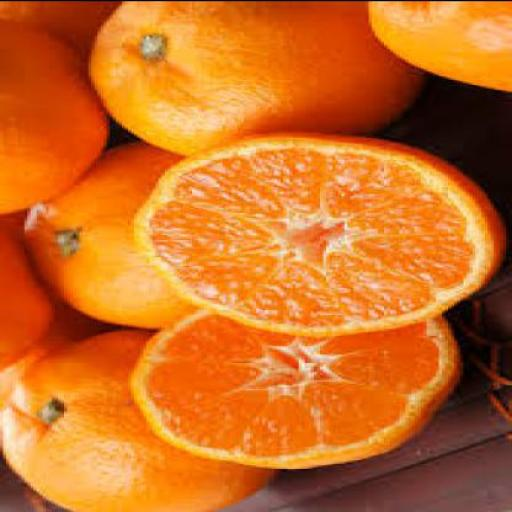biodegradable: (131, 133, 509, 338), (125, 300, 460, 470), (82, 1, 421, 159), (0, 331, 270, 511), (22, 142, 192, 329), (0, 12, 113, 214), (366, 2, 509, 92), (0, 220, 46, 374), (0, 2, 113, 55)
